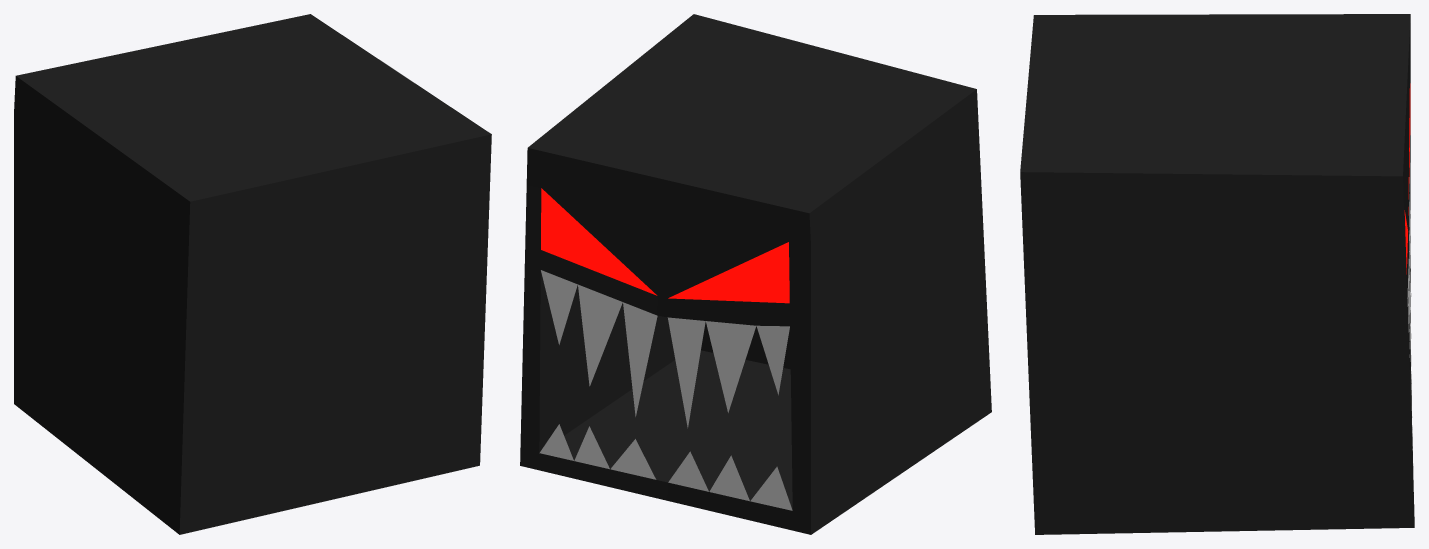
File: house.glb
3 renders of one model, left to right at view 1: azimuth 30°, elevation 25°; view 2: azimuth 150°, elevation 25°; view 3: azimuth 270°, elevation 25°, orthographic. The views are drawn at different scales.
Visible parts, largest first — view 1: Cube; view 2: Cube; view 3: Cube.
Part boxes in pixels (bbox=[...]): Cube: bbox=[14, 14, 491, 534]; Cube: bbox=[520, 14, 991, 534]; Cube: bbox=[1020, 14, 1414, 534].
Bounding box in the file's own units: 13.36 × 13.88 × 13.58.
